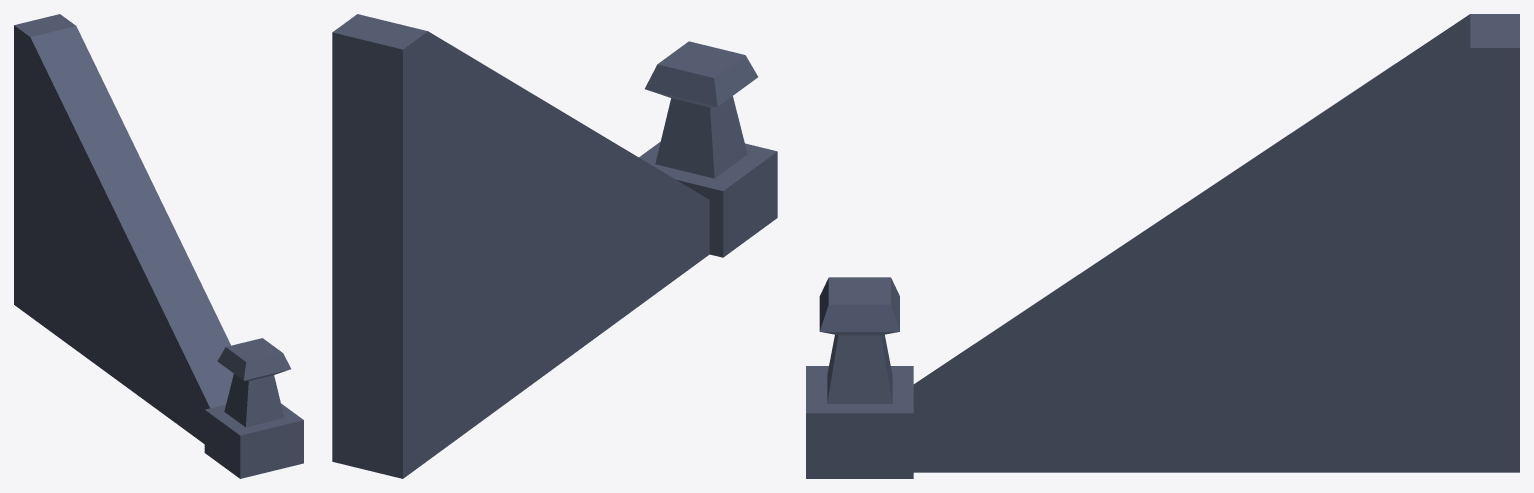
The model's file is respaldero de escalera.fbx.
3 views of the same model, side by side, from view 1: azimuth 30°, elevation 25°; view 2: azimuth 150°, elevation 25°; view 3: azimuth 270°, elevation 25° (orthographic). The views are drawn at different scales.
Visible parts, largest first — view 1: stairs handhail big; view 2: stairs handhail big; view 3: stairs handhail big.
Part boxes in pixels (box(x1,y1,x2,y2)): stairs handhail big: box(14, 14, 303, 478); stairs handhail big: box(332, 14, 777, 478); stairs handhail big: box(806, 14, 1519, 478).
Size of the model in its own units: 75.6 by 317 by 483.
